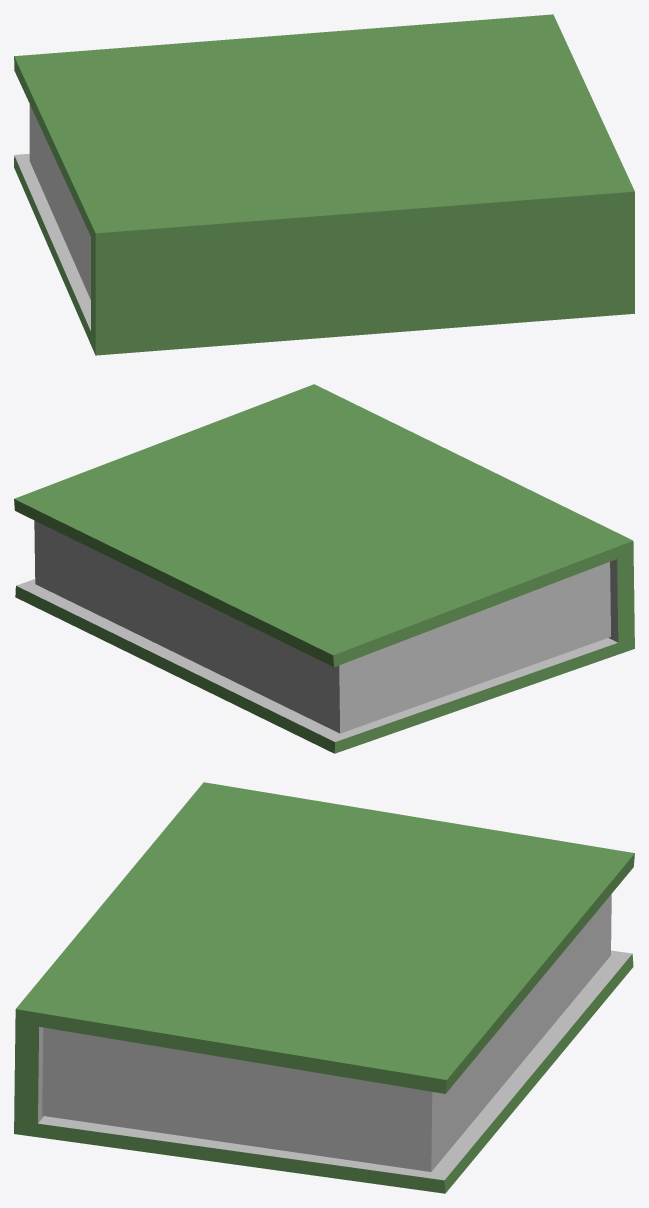
The model's file is SM_Book_01.fbx.
3 views of the same model, one above another, from view 1: azimuth 30°, elevation 25°; view 2: azimuth 150°, elevation 25°; view 3: azimuth 270°, elevation 25° (orthographic). The views are drawn at different scales.
Parts seen in each view (by area): view 1: SM_Book_01; view 2: SM_Book_01; view 3: SM_Book_01.
Boxes of the visible parts, box(x1,y1,x2,y2) form: SM_Book_01: box(14, 14, 634, 355); SM_Book_01: box(14, 384, 634, 753); SM_Book_01: box(14, 782, 634, 1193).
Bounding box in the file's own units: 45.38 × 9.2 × 40.99.
